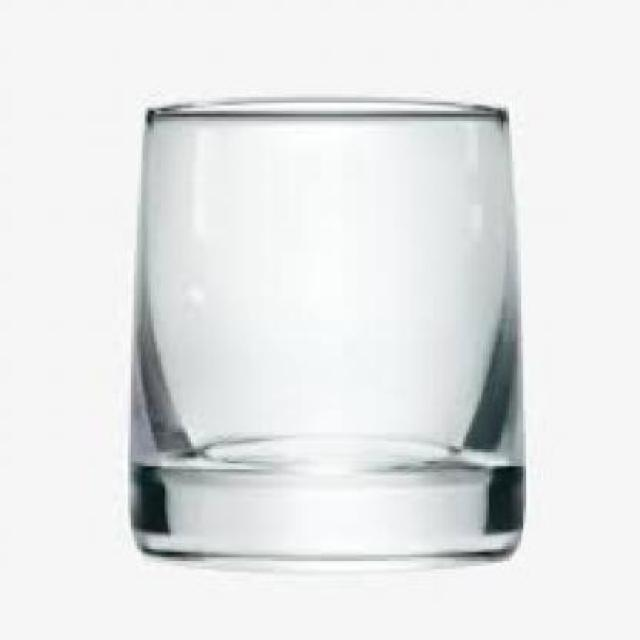kaca: (128, 97, 523, 557)
